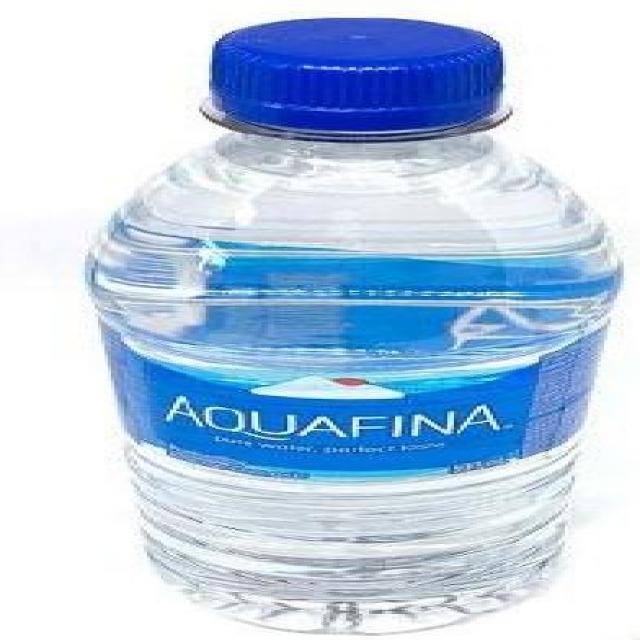bottle: (55, 0, 614, 621)
